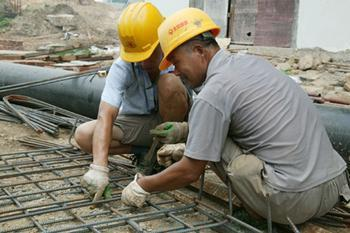safetyhat: (156, 4, 338, 225), (96, 1, 175, 190)
